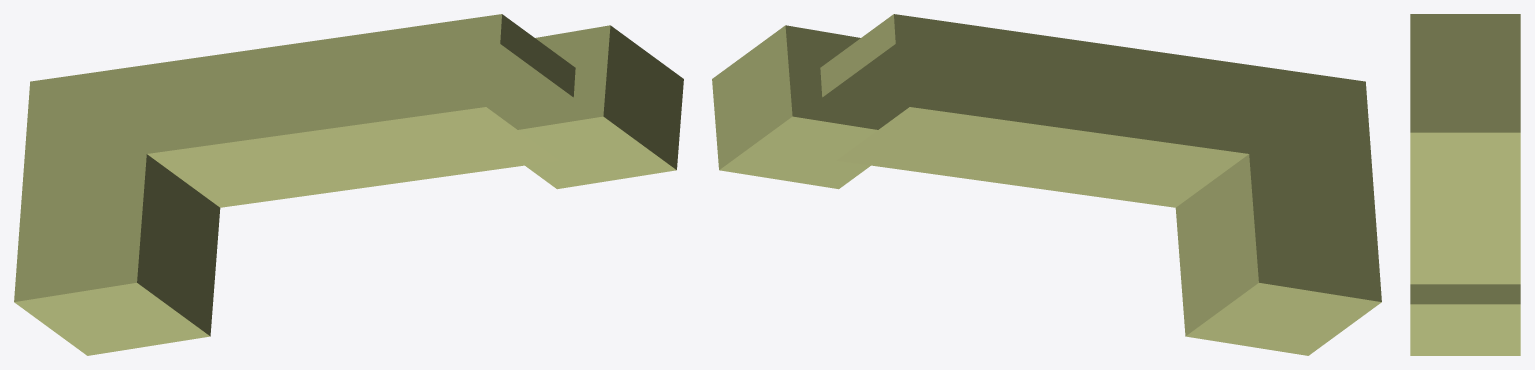
The picture shows the model from 3 angles, left to right: view 1: azimuth 30°, elevation 25°; view 2: azimuth 150°, elevation 25°; view 3: azimuth 270°, elevation 25°; orthographic projection. The views are drawn at different scales.
Parts seen in each view (by area): view 1: 0_1_0_0_2_2_0_2; view 2: 0_1_0_0_2_2_0_2; view 3: 0_1_0_0_2_2_0_2.
Part boxes in pixels (left/top/right/bottom): 0_1_0_0_2_2_0_2: left=14, top=14, right=683, bottom=355; 0_1_0_0_2_2_0_2: left=712, top=14, right=1381, bottom=355; 0_1_0_0_2_2_0_2: left=1410, top=14, right=1520, bottom=355.
Size of the model in its own units: 42.17 by 15.35 by 9.
